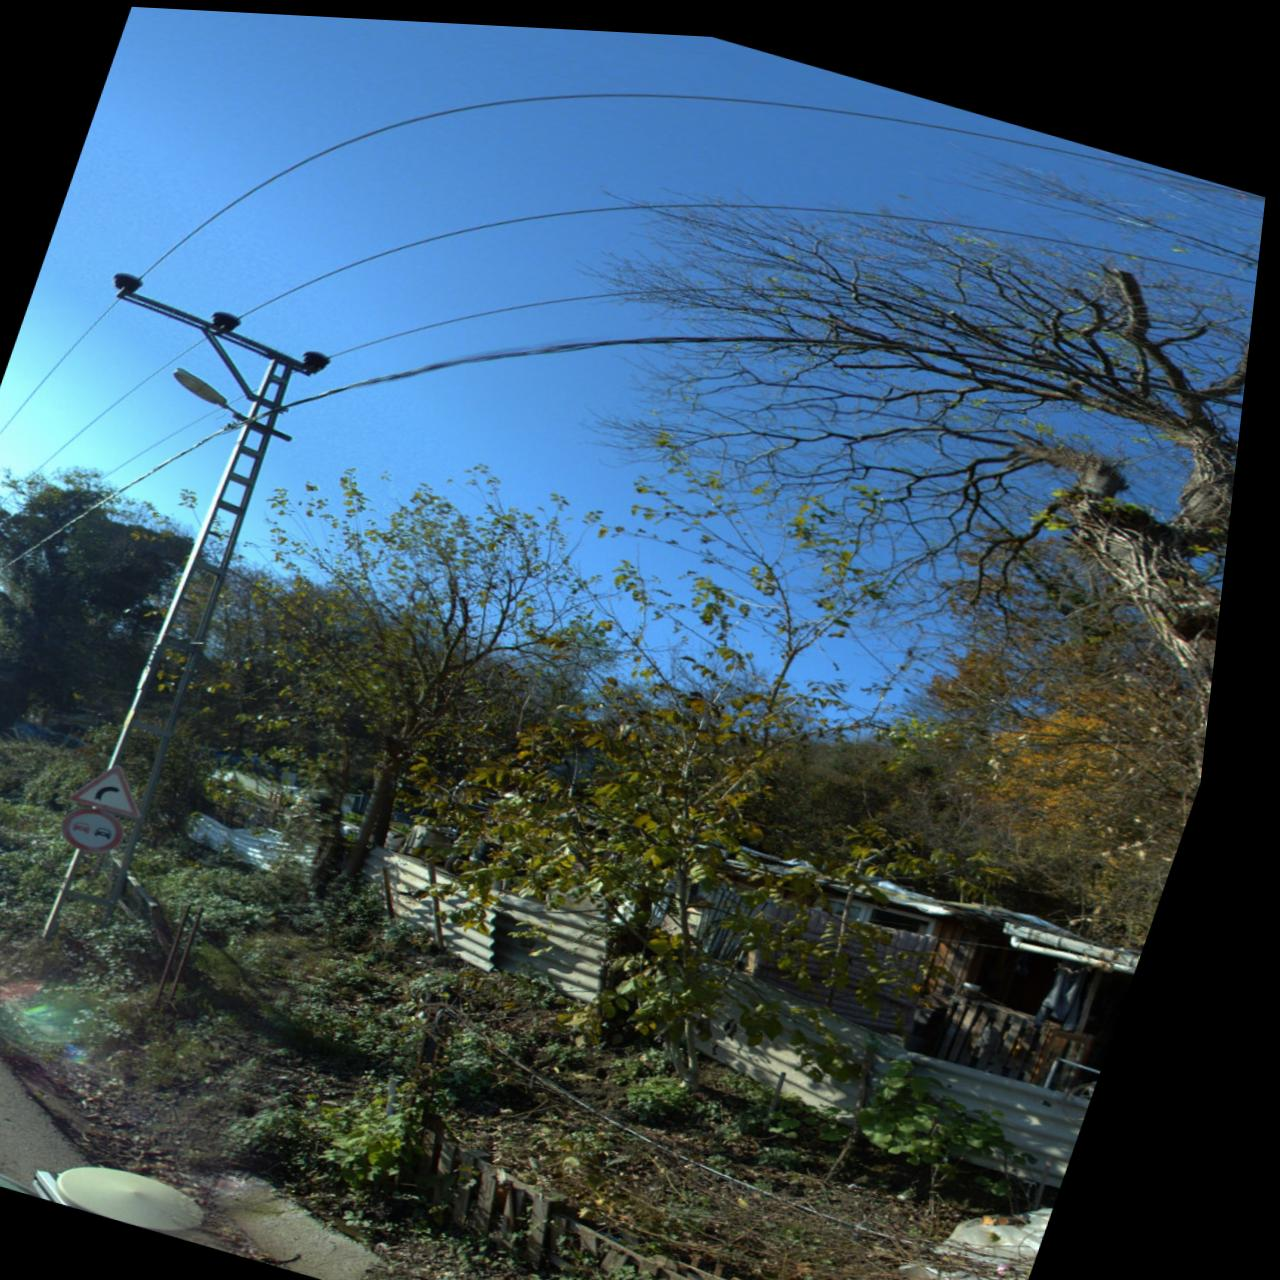Utility Pole Information Plate: (138, 707, 151, 726)
